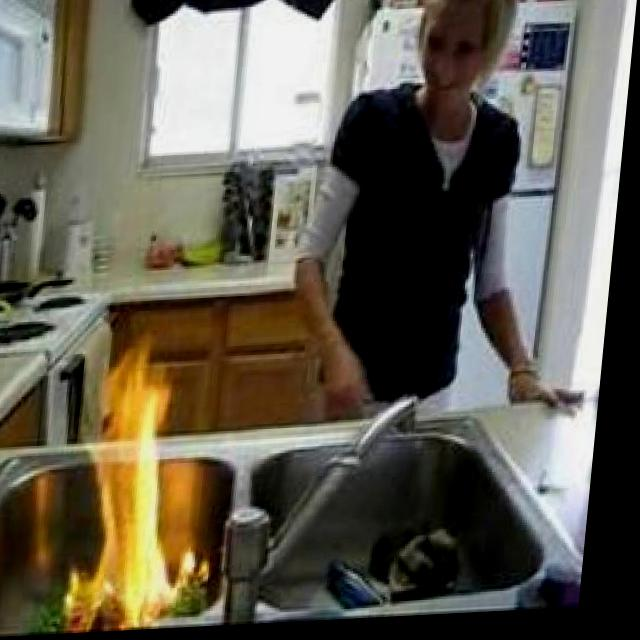helmet: (75, 330, 225, 630)
no_helmet: (75, 330, 225, 630)
